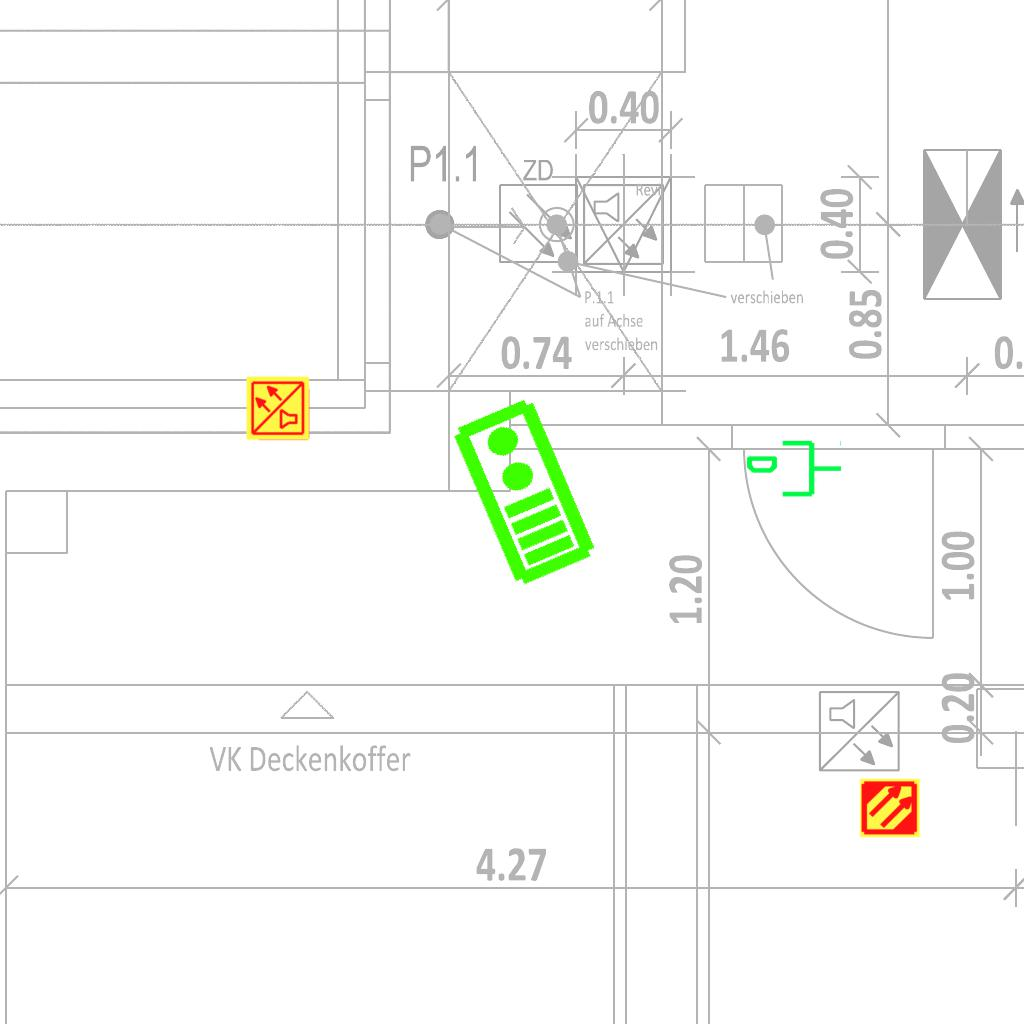ASR_Ansaugrauchmelder: (859, 777, 921, 839)
Datenanschluss_einfach: (744, 436, 844, 505)
Gegensprechanlage_mit_Video: (444, 392, 601, 592)
OKW_Multisensormelder_(Kombination_optischer_Rauch-Kahlenmonoxid_Waerme-Melder): (245, 375, 311, 441)
